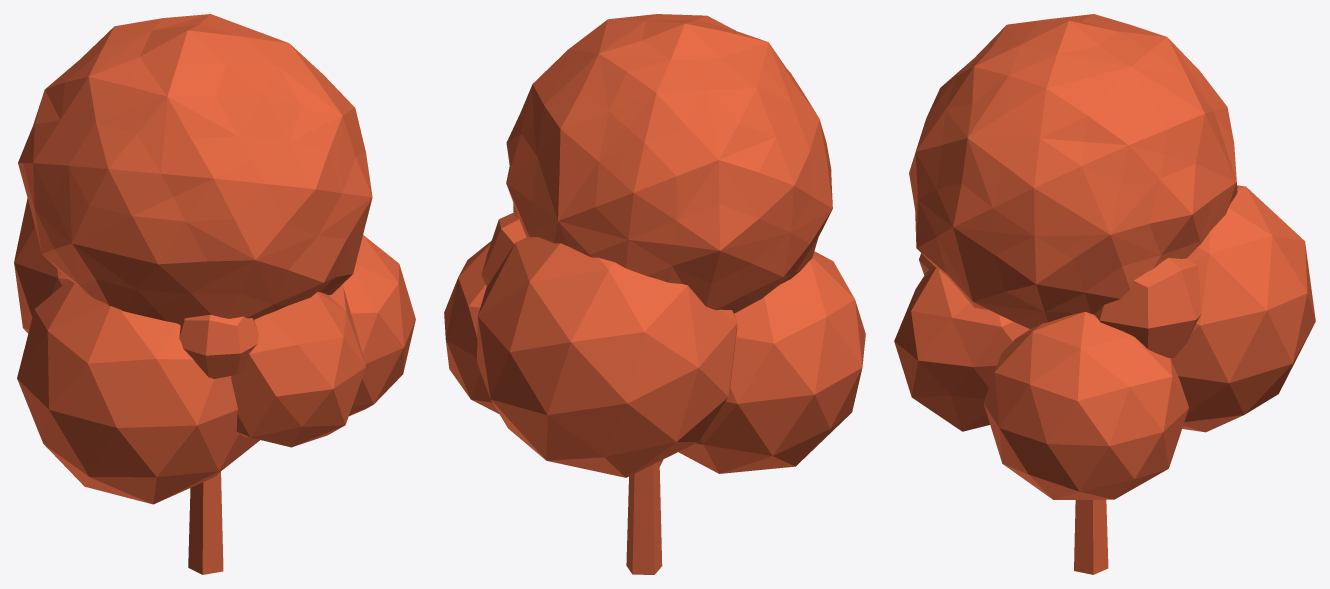
File: tree-lime_dark.fbx
3 renders of one model, left to right at view 1: azimuth 30°, elevation 25°; view 2: azimuth 150°, elevation 25°; view 3: azimuth 270°, elevation 25°, orthographic. The views are drawn at different scales.
Parts seen in each view (by area): view 1: tree-lime_dark; view 2: tree-lime_dark; view 3: tree-lime_dark.
Part boxes in pixels (left/top/right/bottom): tree-lime_dark: left=14, top=14, right=415, bottom=574; tree-lime_dark: left=444, top=14, right=865, bottom=574; tree-lime_dark: left=894, top=14, right=1315, bottom=574.
Size of the model in its own units: 7.39 by 10.19 by 7.32.
